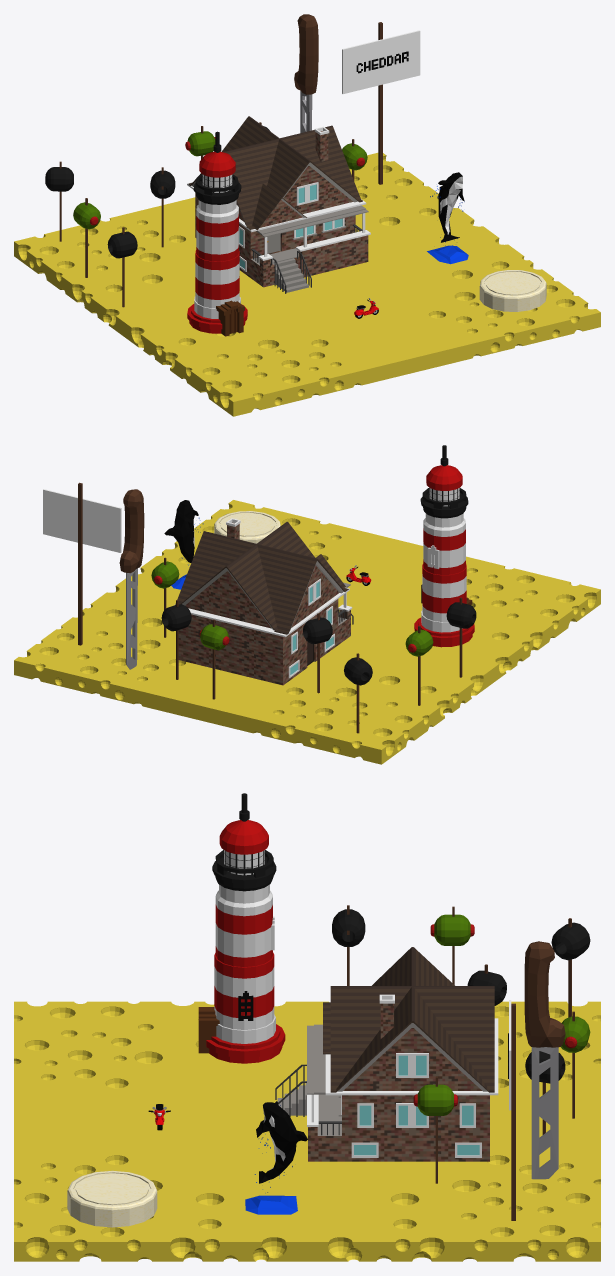
3 views of the same model, one above another, from view 1: azimuth 30°, elevation 25°; view 2: azimuth 150°, elevation 25°; view 3: azimuth 270°, elevation 25° (orthographic). The views are drawn at different scales.
Parts seen in each view (by area): view 1: Cube.022, Cube.117, OBJRANDOM_LIGHTHOUSE, Cube.023, Cylinder.016, Cube.024, ANIMAL_ORCA, Sphere.017, Sphere.016, Sphere.020, Sphere.018, Sphere.022 (+1 smaller); view 2: Cube.022, Cube.117, OBJRANDOM_LIGHTHOUSE, Cube.023, Cube.024, Cylinder.016, ANIMAL_ORCA, Sphere.017, Sphere.016, Sphere.022, Sphere.020, Sphere.021 (+2 smaller); view 3: Cube.022, Cube.117, OBJRANDOM_LIGHTHOUSE, Cube.024, Cylinder.016, ANIMAL_ORCA, Sphere.019, Cube.023, Sphere.016, Sphere.018, Sphere.017, Sphere.022 (+2 smaller).
Part boxes in pixels (left/top/right/bottom): Cube.022: left=14, top=152, right=600, bottom=416; Cube.117: left=187, top=116, right=370, bottom=293; OBJRANDOM_LIGHTHOUSE: left=187, top=131, right=247, bottom=336; Cube.023: left=342, top=22, right=420, bottom=184; Cylinder.016: left=479, top=270, right=546, bottom=311; Cube.024: left=294, top=14, right=318, bottom=133; ANIMAL_ORCA: left=427, top=172, right=468, bottom=264; Sphere.017: left=107, top=227, right=137, bottom=307; Sphere.016: left=45, top=161, right=73, bottom=241; Sphere.020: left=150, top=167, right=175, bottom=247; Sphere.018: left=73, top=198, right=100, bottom=277; Sphere.022: left=185, top=126, right=215, bottom=159; Cube.022: left=14, top=500, right=600, bottom=764; Cube.117: left=174, top=518, right=353, bottom=685; OBJRANDOM_LIGHTHOUSE: left=414, top=445, right=474, bottom=647; Cube.023: left=43, top=482, right=121, bottom=645; Cube.024: left=119, top=489, right=144, bottom=669; Cylinder.016: left=214, top=511, right=280, bottom=543; ANIMAL_ORCA: left=164, top=500, right=203, bottom=589; Sphere.017: left=446, top=597, right=476, bottom=677; Sphere.016: left=344, top=653, right=372, bottom=733; Sphere.022: left=199, top=619, right=229, bottom=699; Sphere.020: left=303, top=613, right=332, bottom=693; Sphere.021: left=161, top=600, right=191, bottom=679; Cube.022: left=14, top=1001, right=600, bottom=1261; Cube.117: left=275, top=947, right=498, bottom=1161; OBJRANDOM_LIGHTHOUSE: left=198, top=793, right=285, bottom=1063; Cube.024: left=524, top=941, right=565, bottom=1179; Cylinder.016: left=67, top=1170, right=157, bottom=1227; ANIMAL_ORCA: left=245, top=1101, right=307, bottom=1214; Sphere.019: left=413, top=1076, right=457, bottom=1183; Cube.023: left=508, top=1000, right=515, bottom=1220; Sphere.016: left=551, top=918, right=590, bottom=1017; Sphere.018: left=430, top=906, right=474, bottom=984; Sphere.017: left=332, top=905, right=365, bottom=985; Sphere.022: left=561, top=1011, right=590, bottom=1118.
Bounding box in the file's own units: 3917 × 2154 × 4000.
38 materials, 5 textured.
